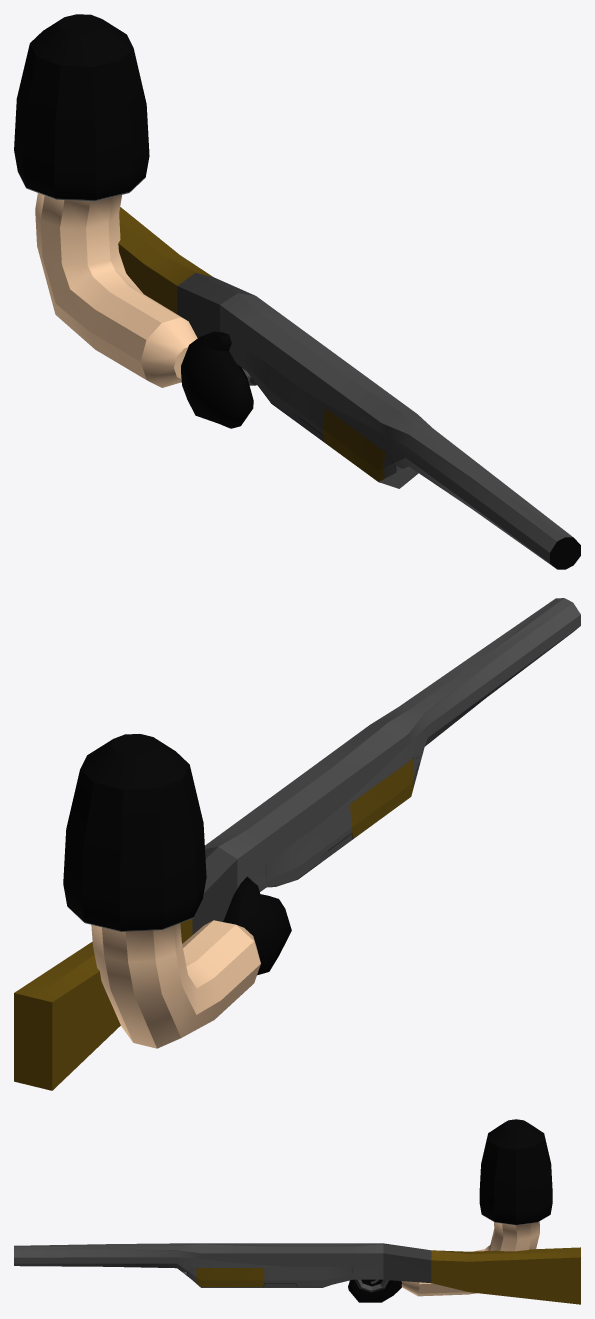
Rendered from sg_ojosama_R_b.obj.
3 views of the same model, one above another, from view 1: azimuth 30°, elevation 25°; view 2: azimuth 150°, elevation 25°; view 3: azimuth 270°, elevation 25° (orthographic). The views are drawn at different scales.
Parts seen in each view (by area): view 1: R pCylinder4 group5 R, pasted__pCylinder1 pasted__group1 group7 R, R group5 R pasted__pCube3; view 2: pasted__pCylinder1 pasted__group1 group7 R, R pCylinder4 group5 R, R group5 R pasted__pCube3; view 3: pasted__pCylinder1 pasted__group1 group7 R, R pCylinder4 group5 R, R group5 R pasted__pCube3.
Boxes of the visible parts, x1,y1,x2,y2 form: R pCylinder4 group5 R: (14, 14, 197, 387); pasted__pCylinder1 pasted__group1 group7 R: (118, 207, 580, 569); R group5 R pasted__pCube3: (181, 331, 253, 428); pasted__pCylinder1 pasted__group1 group7 R: (14, 598, 580, 1090); R pCylinder4 group5 R: (63, 734, 260, 1048); R group5 R pasted__pCube3: (222, 876, 291, 975); pasted__pCylinder1 pasted__group1 group7 R: (14, 1243, 580, 1304); R pCylinder4 group5 R: (401, 1119, 552, 1296); R group5 R pasted__pCube3: (348, 1279, 401, 1302).
Size of the model in its own units: 0.2261 by 0.5598 by 1.66.
1 material, 1 textured.
